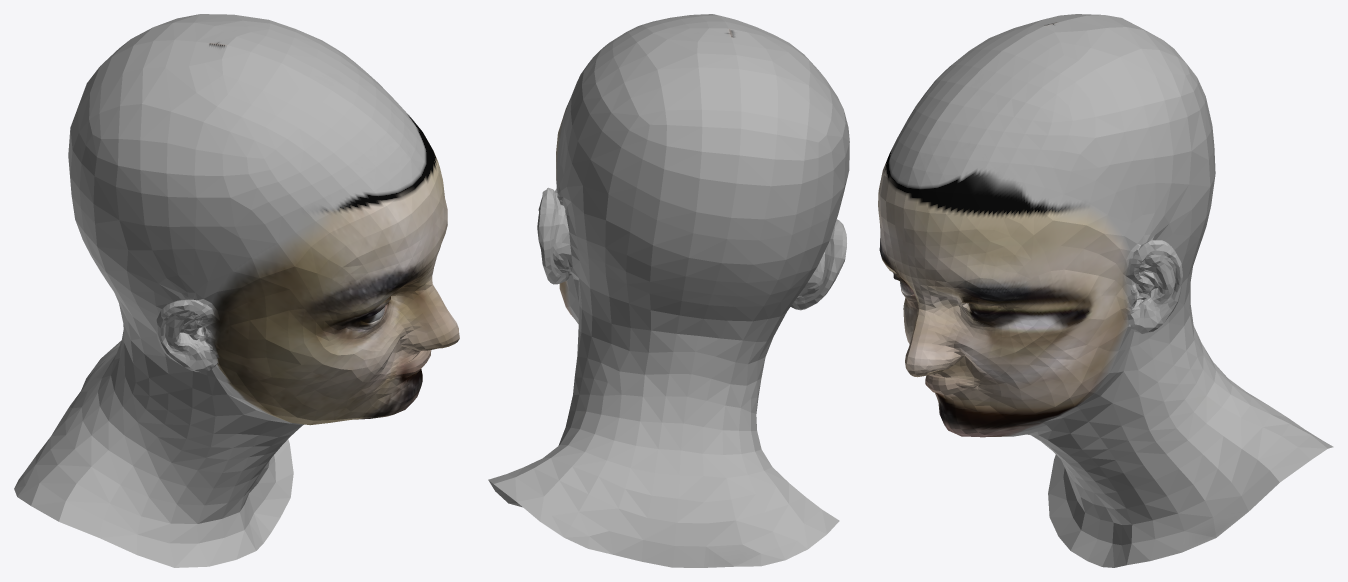
Rendered from ezgif-frame-052.obj.
3 views of the same model, side by side, from view 1: azimuth 30°, elevation 25°; view 2: azimuth 150°, elevation 25°; view 3: azimuth 270°, elevation 25° (orthographic). The views are drawn at different scales.
Size of the model in its own units: 0.2072 by 0.3156 by 0.2566.
1 material, 1 textured.
